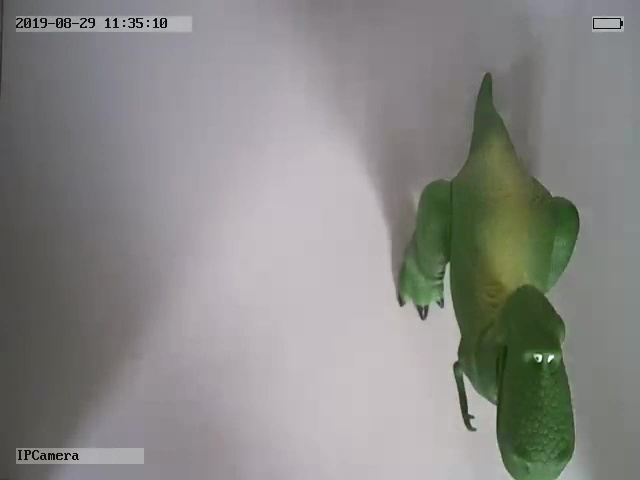rex: (396, 68, 582, 480)
